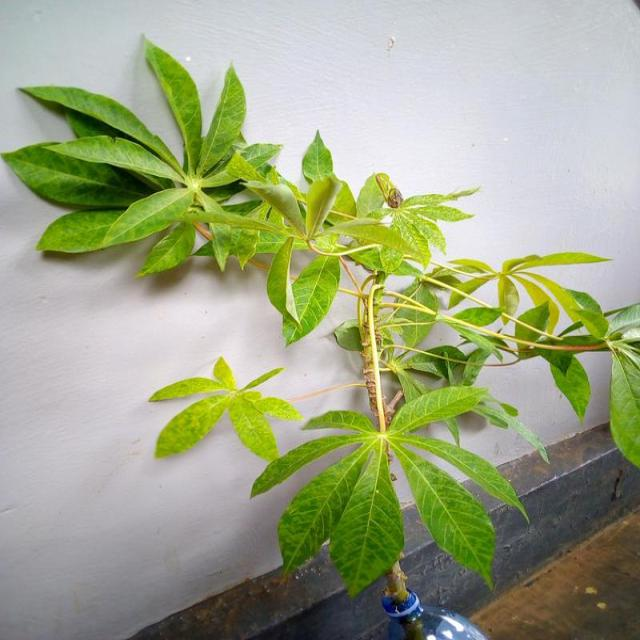cassava leaf: (1, 33, 638, 604)
